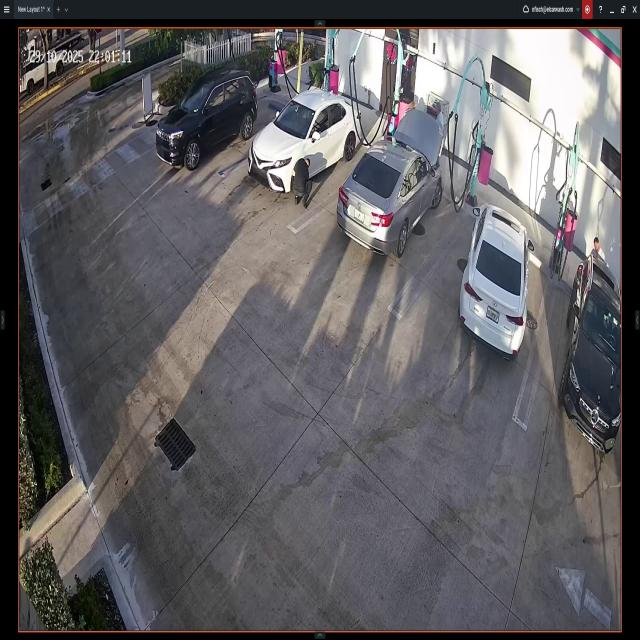Car: (342, 113, 443, 262), (565, 251, 623, 452), (251, 89, 362, 194), (459, 203, 529, 354), (156, 73, 259, 168)
